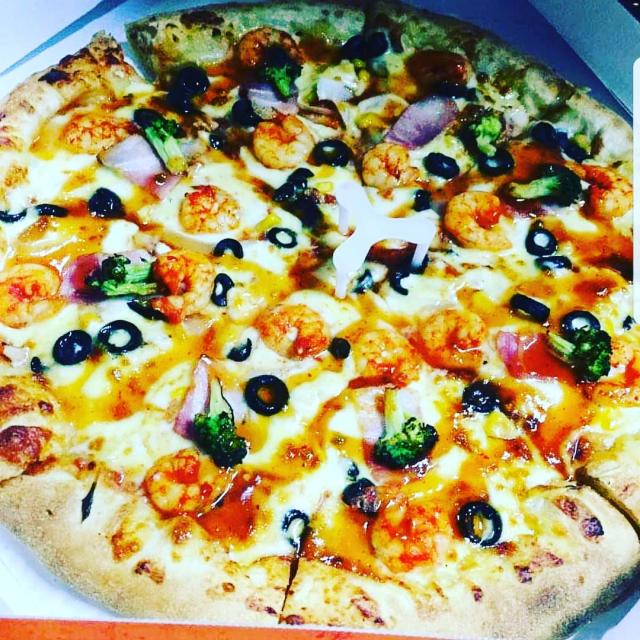black_olives: (524, 220, 575, 281), (240, 371, 294, 419), (95, 316, 149, 358), (460, 493, 500, 548), (171, 66, 210, 118), (502, 284, 551, 324), (49, 324, 97, 362), (285, 504, 323, 548), (85, 182, 122, 222), (312, 133, 352, 169), (563, 308, 600, 342), (349, 473, 381, 512), (477, 147, 513, 181), (425, 147, 461, 180), (267, 218, 296, 253), (209, 234, 244, 263), (207, 270, 232, 306), (222, 332, 245, 357)
pizza: (0, 0, 640, 640)
